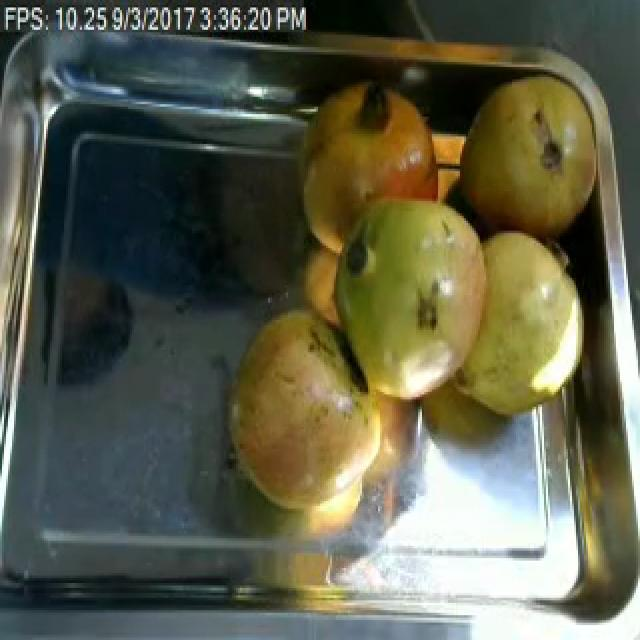fruit: (314, 181, 508, 424), (212, 295, 396, 531), (450, 65, 612, 248), (290, 74, 448, 218)
